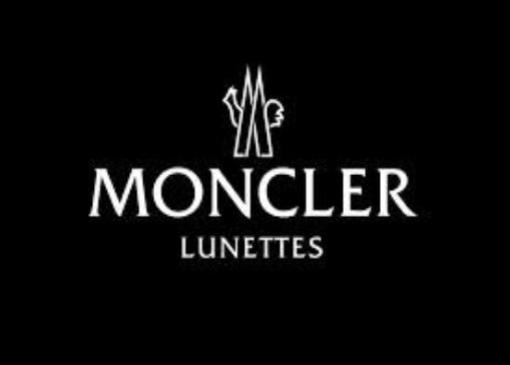MONCLER: (87, 160, 422, 222), (221, 63, 287, 160)
